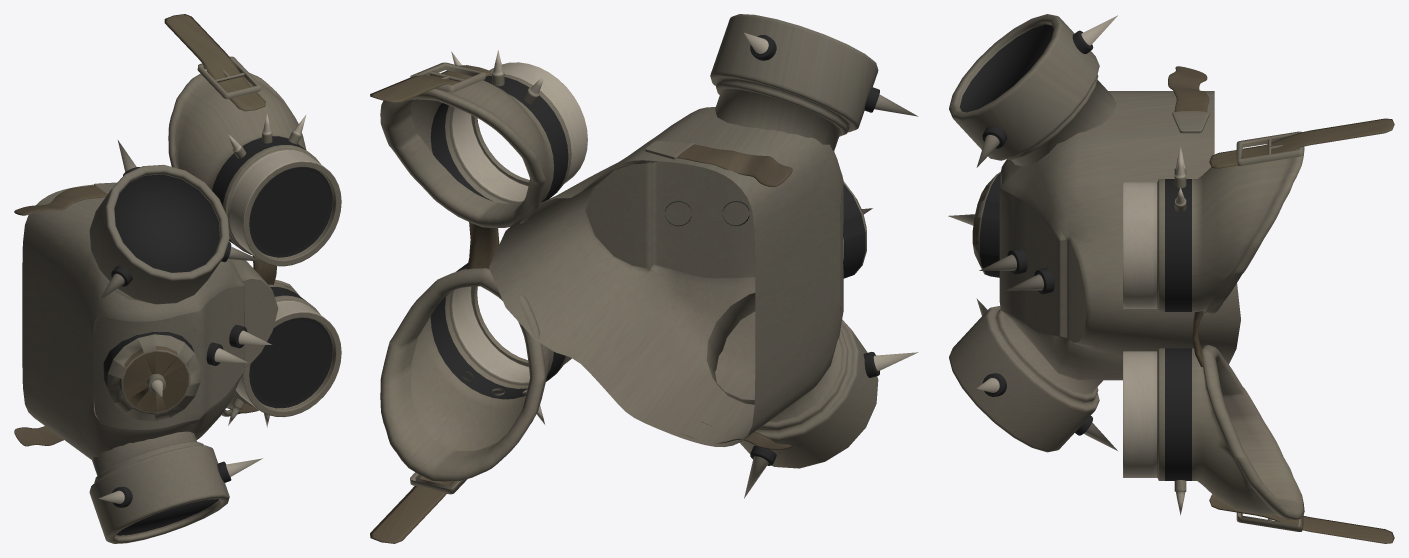
The model's file is SteampunkMask.fbx.
The picture shows the model from 3 angles, left to right: view 1: azimuth 30°, elevation 25°; view 2: azimuth 150°, elevation 25°; view 3: azimuth 270°, elevation 25°; orthographic projection. The views are drawn at different scales.
Parts seen in each view (by area): view 1: defaultMaterial.001; view 2: defaultMaterial.001; view 3: defaultMaterial.001.
Part boxes in pixels (<box>): defaultMaterial.001: <box>14,14,341,543</box>; defaultMaterial.001: <box>370,14,918,543</box>; defaultMaterial.001: <box>948,14,1394,543</box>.
Size of the model in its own units: 0.1152 by 0.1321 by 0.1227.
